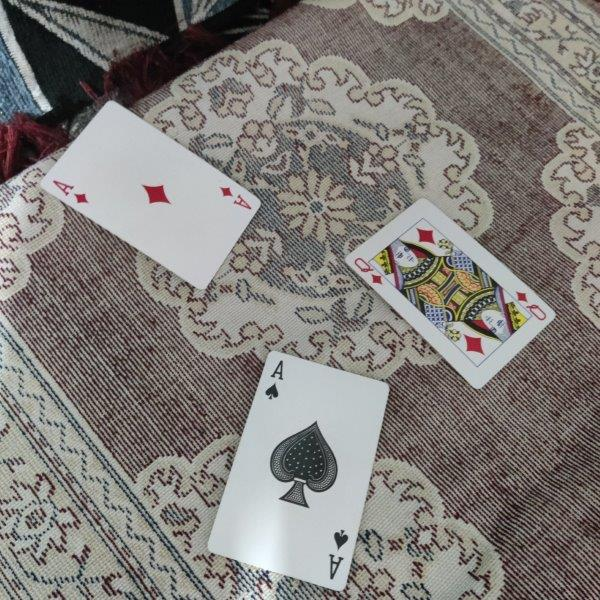Ace of Diamonds: (40, 100, 263, 292)
Ace of Spades: (206, 350, 391, 592)
Queen of Diamonds: (345, 198, 558, 392)
